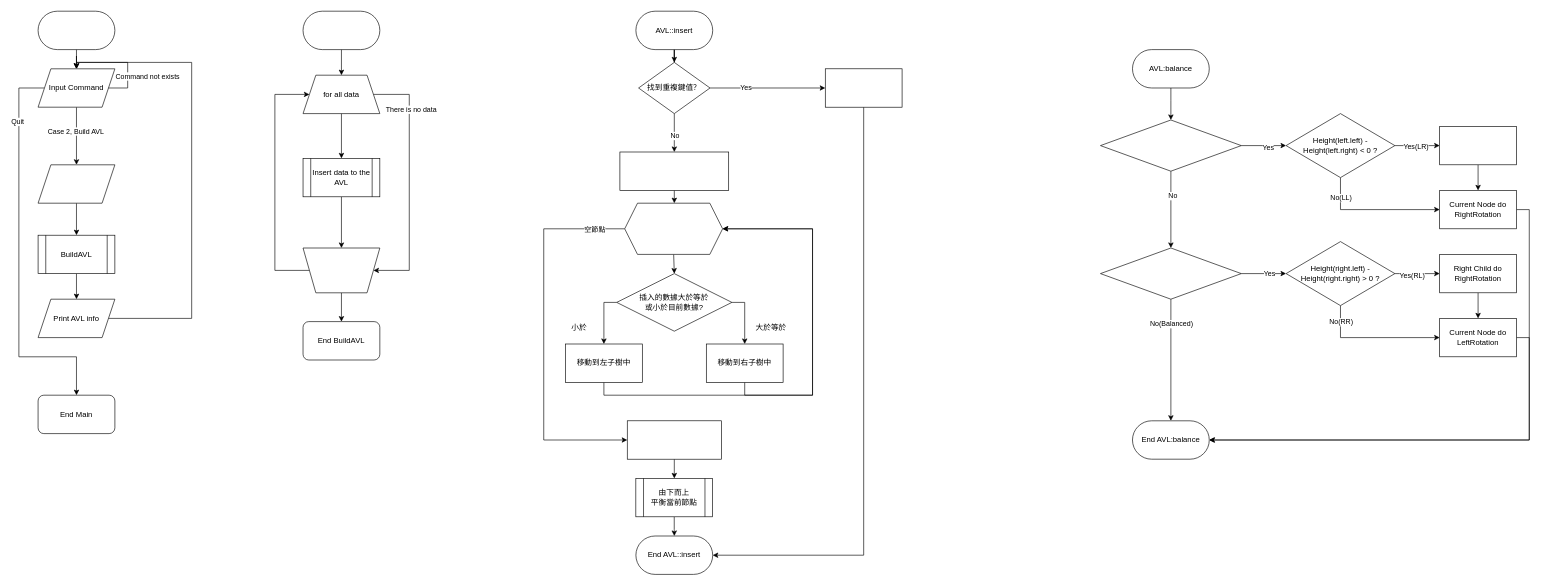
Image size: 1546x586. Some labels were removed from this diagram. Each missing label, with the box of its shape:
end for all data: (302, 247, 380, 293)
Height(left) - Height(right) < -1 ?: (1100, 247, 1241, 299)
Height(left) - Height(right) > 1 ?: (1100, 119, 1241, 171)
Left Child do LeftRotation: (1439, 126, 1516, 165)
Read all data: (37, 164, 115, 203)
Start BuildAVL: (302, 11, 380, 50)
Start Main: (37, 11, 115, 50)
建立新的節點並存入資料: (619, 151, 729, 190)
新的節點放到當前節點位置: (627, 420, 721, 459)
當目前節點不為空: (624, 203, 723, 254)
資料放到當前節點: (825, 68, 902, 107)
